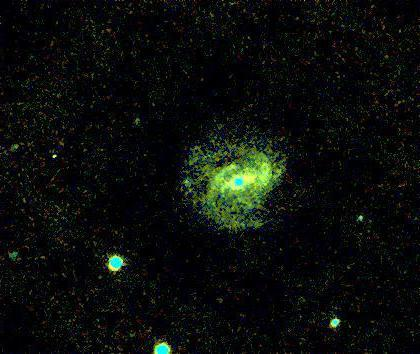star: (2, 132, 32, 162)
